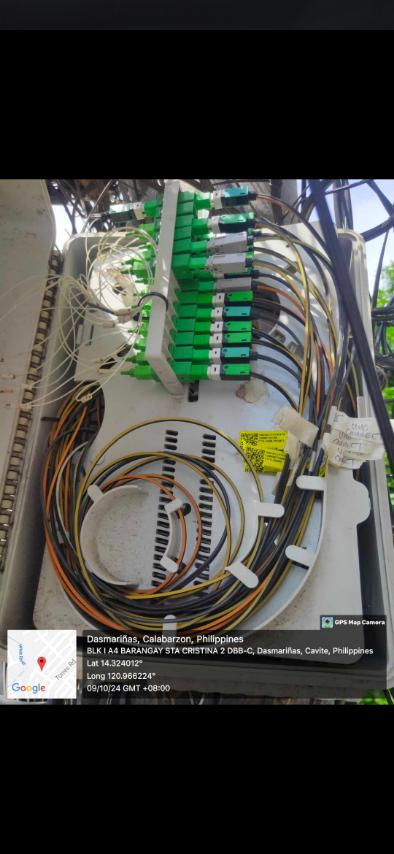no dust cap: (191, 227, 197, 243), (193, 205, 199, 218)
no port: (161, 331, 175, 360), (164, 315, 177, 344), (161, 344, 174, 372), (169, 271, 181, 301), (166, 300, 178, 330), (167, 286, 178, 314)
occupied: (191, 229, 261, 249), (192, 211, 263, 229), (190, 251, 260, 269), (194, 184, 260, 202), (204, 213, 261, 231), (192, 347, 260, 362), (195, 304, 255, 321), (194, 318, 257, 334), (203, 228, 262, 243), (190, 366, 253, 380), (203, 241, 257, 257), (194, 333, 255, 347), (198, 277, 256, 291), (203, 256, 255, 270), (204, 267, 259, 280), (194, 293, 254, 304)
